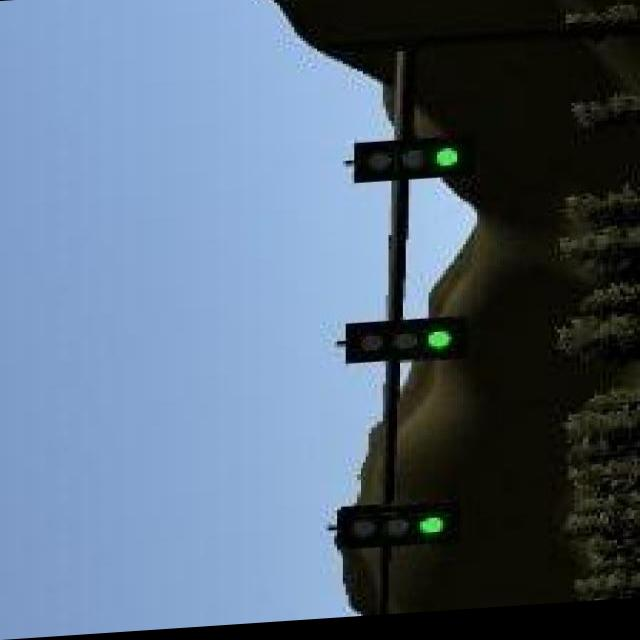green light: (346, 321, 466, 370), (355, 140, 472, 186), (337, 507, 457, 550)
